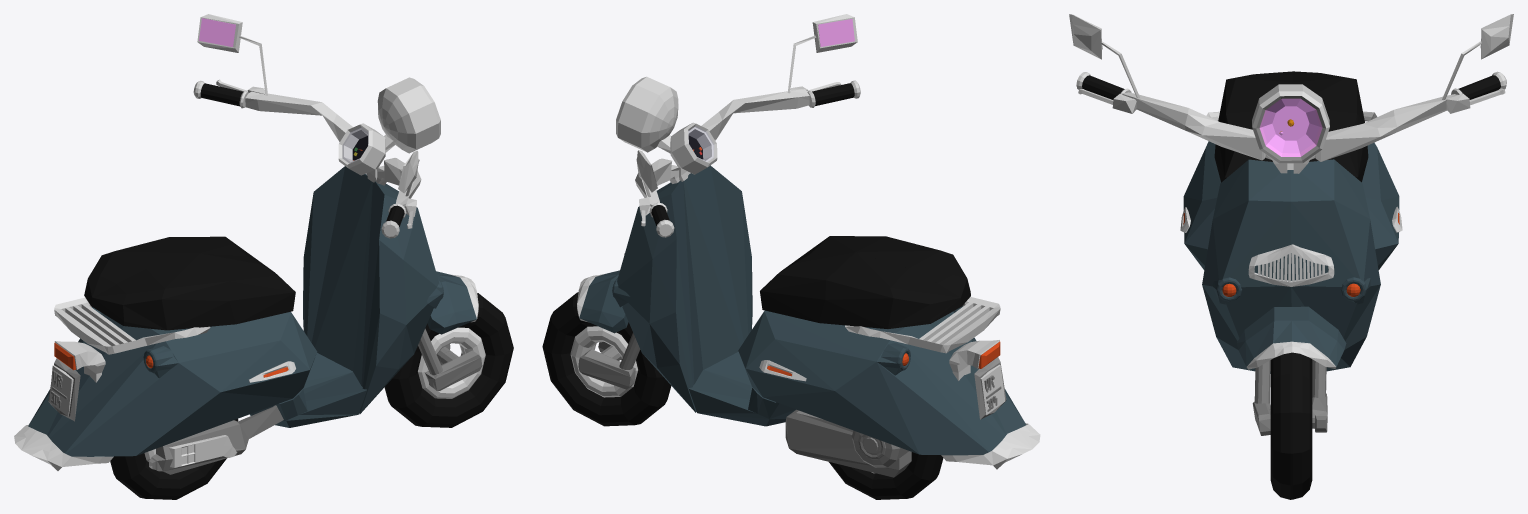
The picture shows the model from 3 angles, left to right: view 1: azimuth 30°, elevation 25°; view 2: azimuth 150°, elevation 25°; view 3: azimuth 270°, elevation 25°; orthographic projection. The views are drawn at different scales.
Visible parts, largest first — view 1: node_MeshObject900933696-PolyPaper14, node_MeshObject42316544-PolyPaper23, node_MeshObject561036608-PolyGem25; view 2: node_MeshObject42316544-PolyPaper23, node_MeshObject900933696-PolyPaper14, node_MeshObject561036608-PolyGem25; view 3: node_MeshObject900933696-PolyPaper14, node_MeshObject42316544-PolyPaper23, node_MeshObject561036608-PolyGem25.
Boxes of the visible parts, box(x1,y1,x2,y2) form: node_MeshObject900933696-PolyPaper14: box(14, 14, 513, 474); node_MeshObject42316544-PolyPaper23: box(28, 19, 485, 499); node_MeshObject561036608-PolyGem25: box(199, 18, 235, 47); node_MeshObject42316544-PolyPaper23: box(542, 14, 1005, 499); node_MeshObject900933696-PolyPaper14: box(570, 35, 1040, 469); node_MeshObject561036608-PolyGem25: box(818, 19, 854, 46); node_MeshObject900933696-PolyPaper14: box(1078, 14, 1513, 499); node_MeshObject42316544-PolyPaper23: box(1069, 14, 1506, 499); node_MeshObject561036608-PolyGem25: box(1259, 98, 1322, 156).
Bounding box in the file's own units: 4.86 × 3.6 × 3.52.
